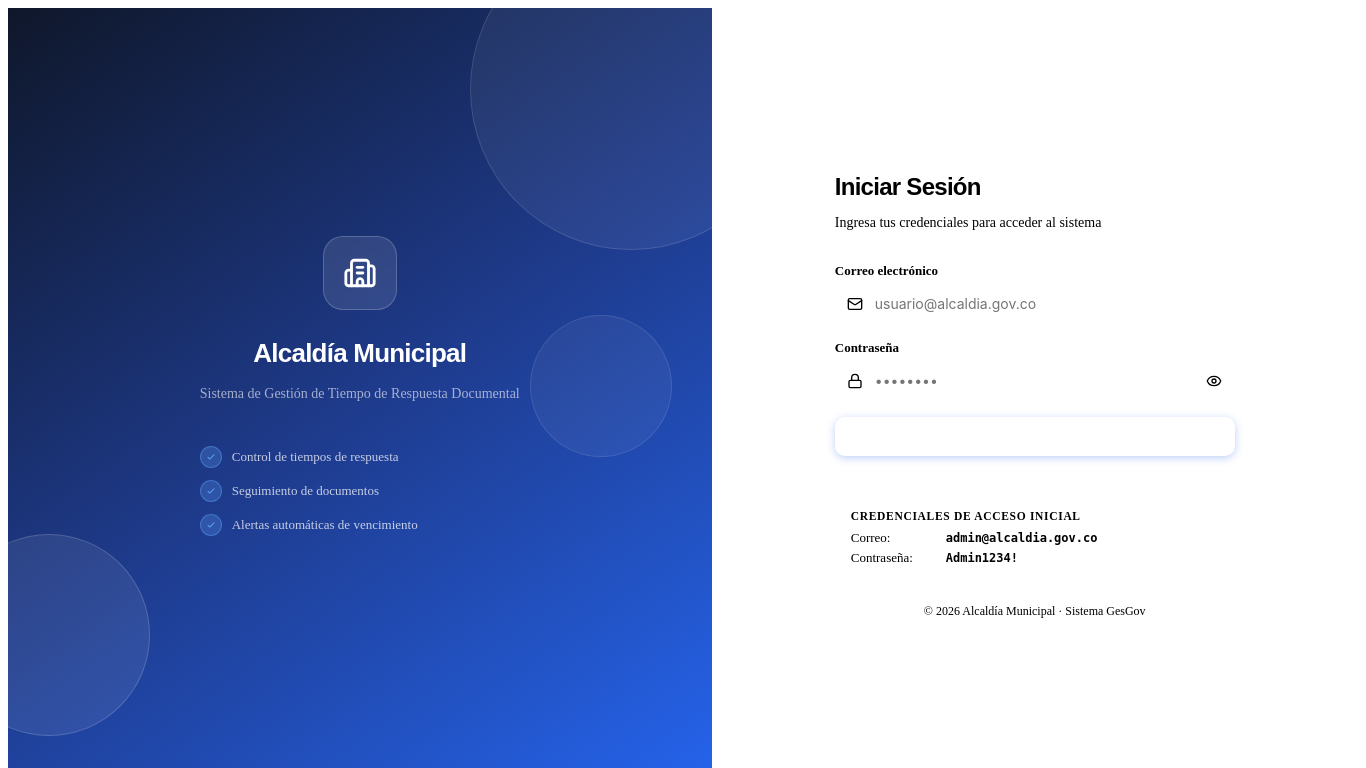
Test: LoginPage › form validation › should show error when password is empty on submit
Type "test@example.com" into the field with placeholder "usuario@alcaldia.gov.co".
click(1061, 304); type("test@example.com")  # box [835,285,1288,322]
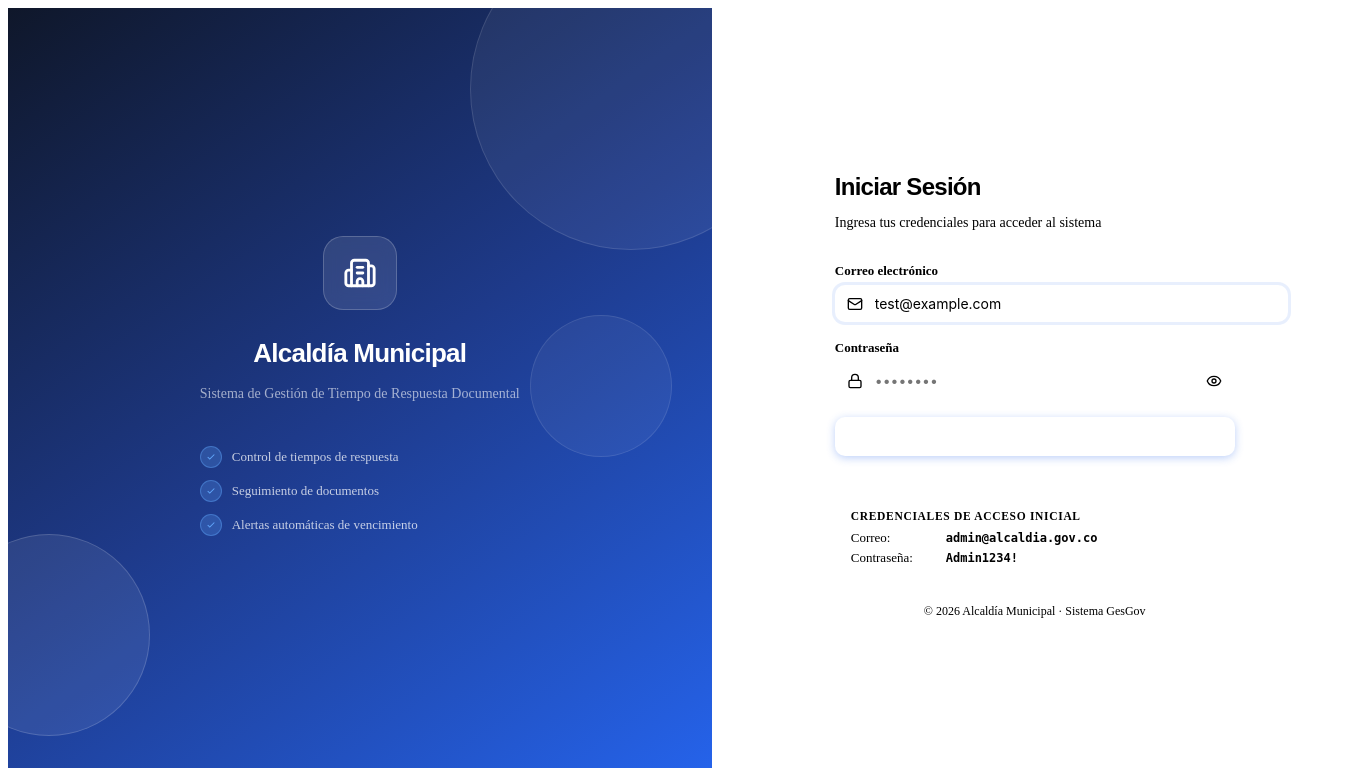
Click the button "Ingresar al Sistema".
click(1035, 437)  # box [835,417,1235,456]
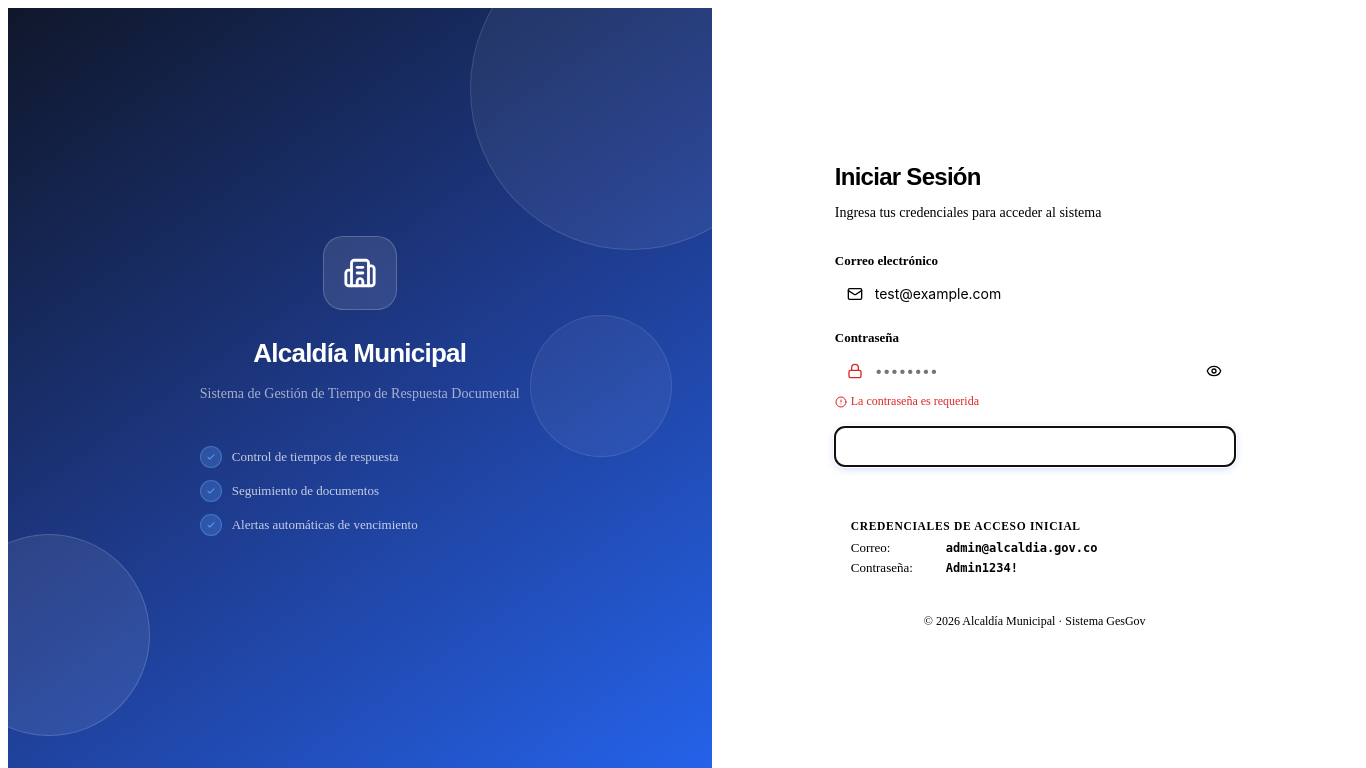
Now the text "La contraseña es requerida" is shown, box [835,394,979,408]
